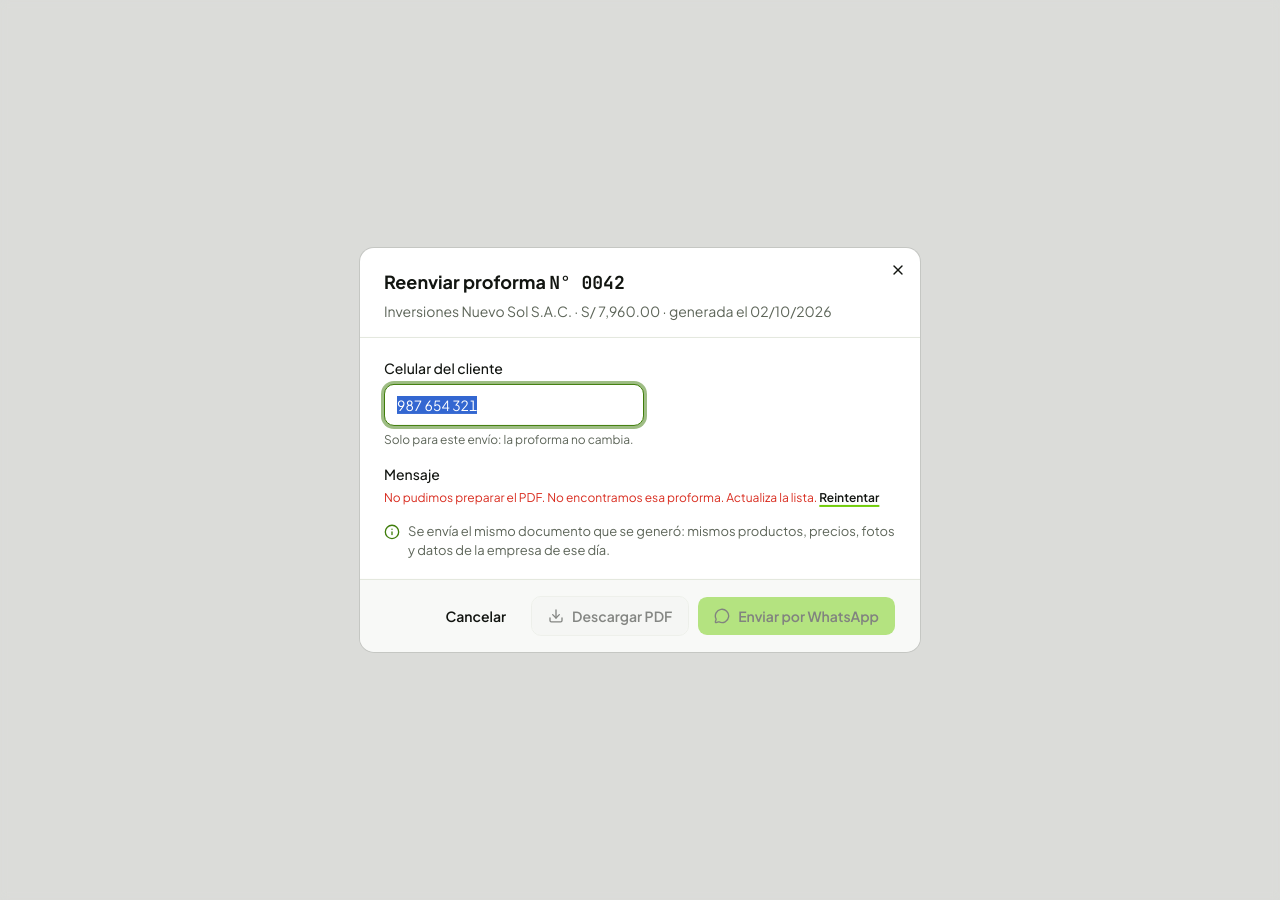
Test case: ResendDialog › si no se puede preparar el PDF, lo dice y deja reintentar
The image size is (1280, 900).
Expected: the text "No encontramos esa proforma" is shown, left=547, top=490, right=817, bottom=505
Click the button "Reintentar" at (849, 498), box left=819, top=490, right=879, bottom=506
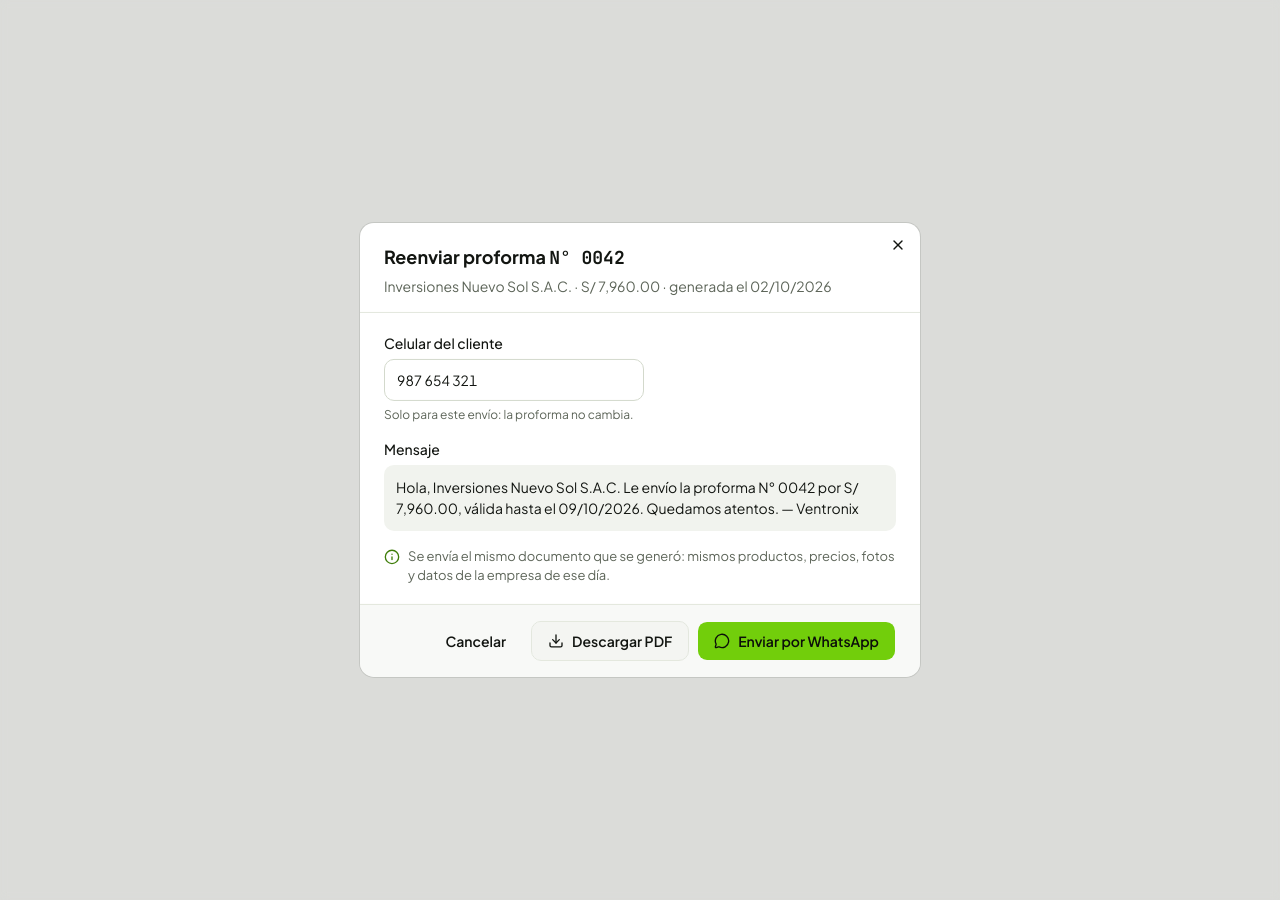
Result: the text "Hola, Inversiones Nuevo Sol S.A.C. Le envío la proforma N° 0042 por S/ 7,960.00, válida hasta el 09/10/2026. Quedamos at" is shown at left=396, top=478, right=859, bottom=517
